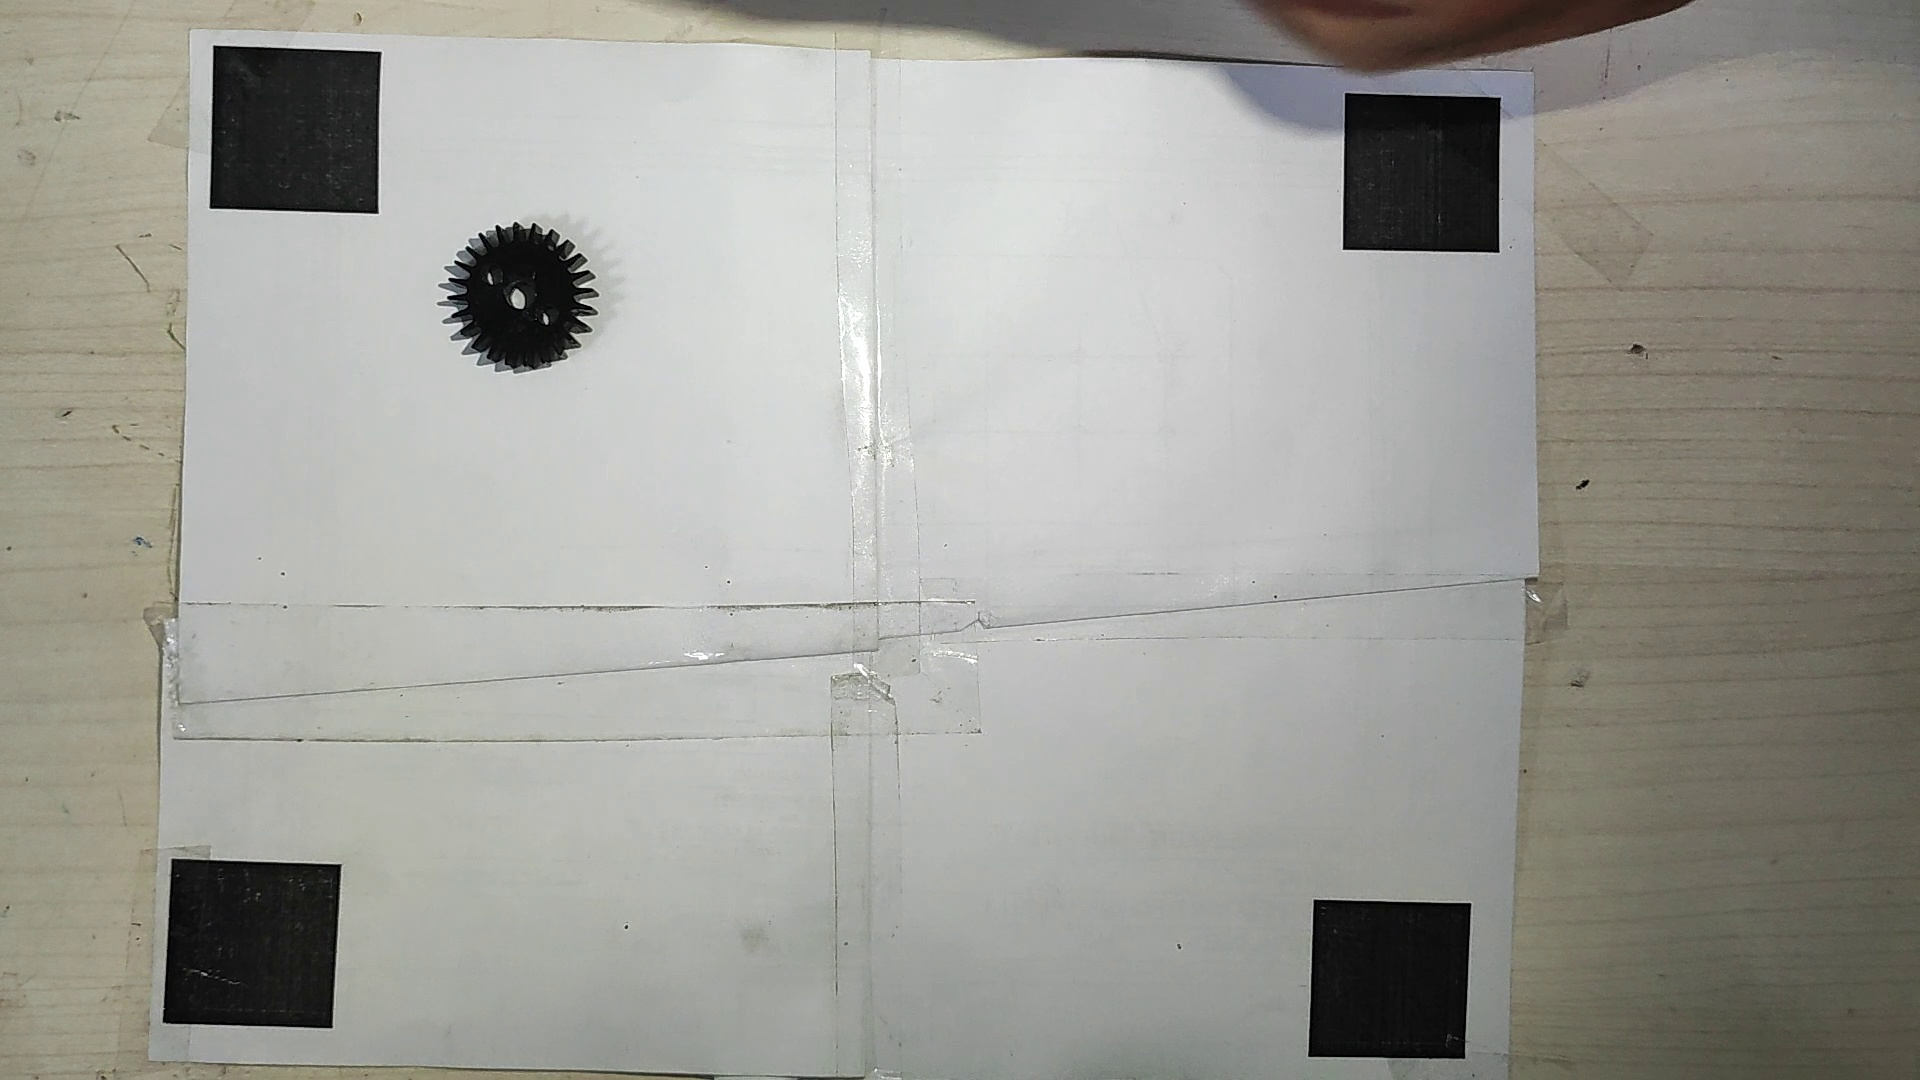Gear: (431, 222, 607, 373)
